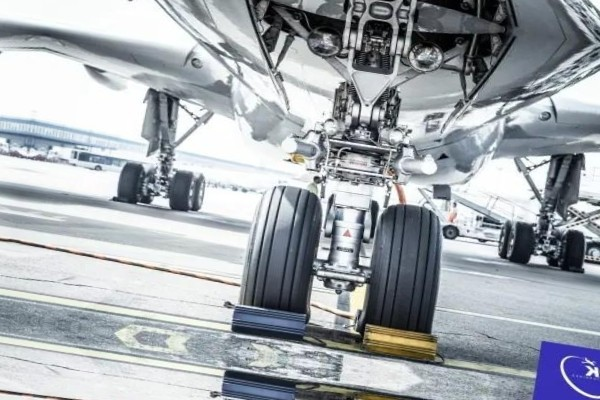chock: (359, 321, 443, 364), (229, 300, 307, 342), (218, 372, 296, 400), (109, 194, 139, 207), (559, 263, 587, 275)
wheel: (234, 181, 329, 341), (360, 201, 454, 347), (545, 225, 590, 272), (498, 218, 538, 264), (116, 160, 155, 206), (170, 168, 208, 213), (136, 166, 162, 205), (545, 228, 567, 267), (188, 172, 209, 212), (364, 198, 382, 242), (497, 220, 516, 259), (323, 192, 340, 234), (582, 239, 600, 266), (442, 223, 461, 240)
